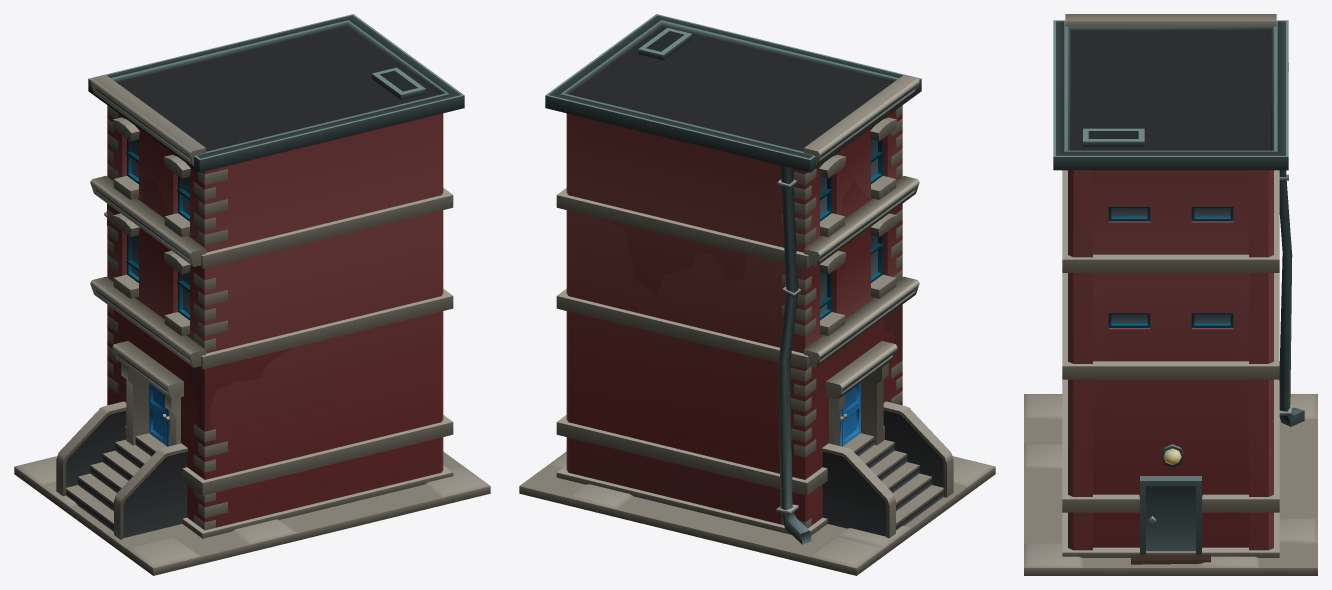
File: Building_5D.fbx
3 renders of one model, left to right at view 1: azimuth 30°, elevation 25°; view 2: azimuth 150°, elevation 25°; view 3: azimuth 270°, elevation 25°, orthographic. The views are drawn at different scales.
Parts seen in each view (by area): view 1: Building_5D; view 2: Building_5D; view 3: Building_5D.
Part boxes in pixels (x1,y1,x2,y2): Building_5D: (14, 14, 490, 575); Building_5D: (519, 14, 995, 575); Building_5D: (1024, 14, 1317, 575).
Size of the model in its own units: 1400 by 1570 by 1000.
